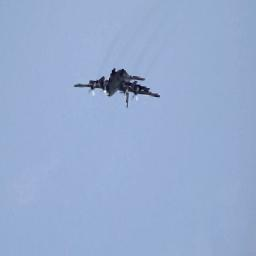Airplane: (73, 68, 163, 106)
